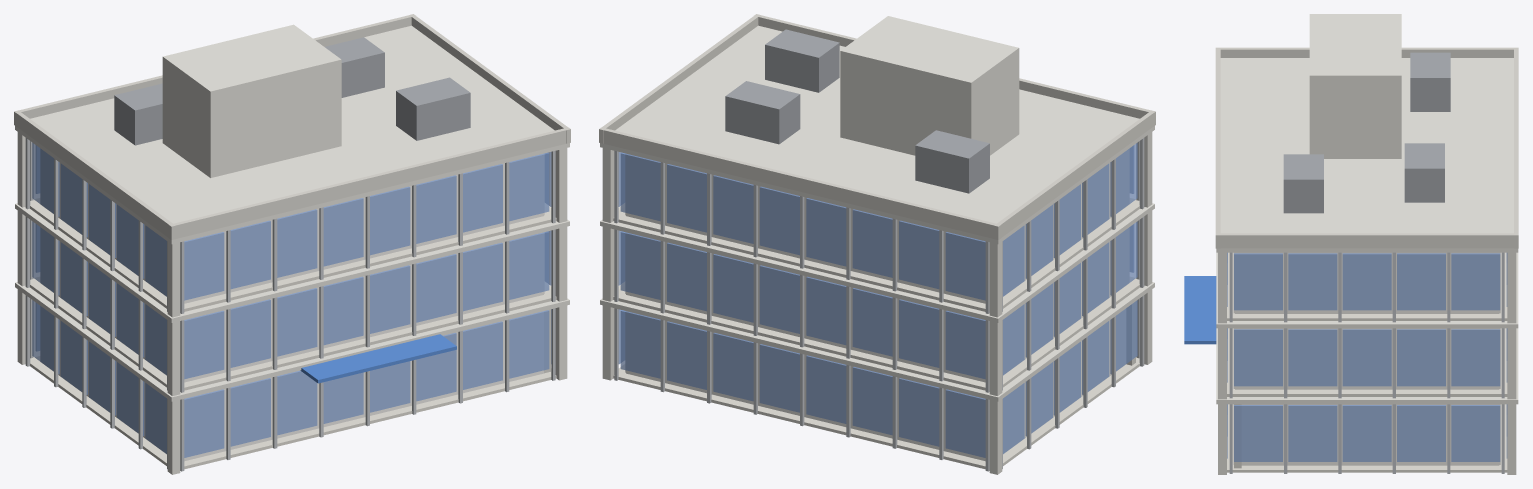
File: centro-retail-hub-3f-8r.glb
The picture shows the model from 3 angles, left to right: view 1: azimuth 30°, elevation 25°; view 2: azimuth 150°, elevation 25°; view 3: azimuth 270°, elevation 25°; orthographic projection. The views are drawn at different scales.
Visible parts, largest first — view 1: shell_roof, shell_penthouse, wall_room_1_3_1, wall_room_2_3_1, wall_room_2_7_1, wall_room_1_7_1, shell_parapet_f, wall_room_0_7_1, wall_room_0_3_1, shell_slab_1, shell_slab_0, floorplate_1 (+79 smaller); view 2: shell_roof, shell_penthouse, wall_room_2_0_0, wall_room_0_0_0, wall_room_1_0_0, wall_room_0_4_0, wall_room_2_4_0, wall_room_1_4_0, shell_parapet_b, shell_slab_1, shell_slab_0, floorplate_1 (+73 smaller); view 3: shell_roof, shell_penthouse, wall_room_0_6_3, wall_room_1_6_3, wall_room_2_6_3, wall_room_1_4_3, wall_room_0_4_3, wall_room_2_4_3, shell_parapet_r, shell_glassX_1_0_r, shell_glassX_1_2_r, shell_glassX_1_3_r (+37 smaller).
Boxes of the visible parts, left/top/right/bottom form: shell_roof: left=30, top=25, right=554, bottom=223; shell_penthouse: left=162, top=24, right=341, bottom=177; wall_room_1_3_1: left=244, top=277, right=361, bottom=367; wall_room_2_3_1: left=244, top=198, right=361, bottom=288; wall_room_2_7_1: left=427, top=154, right=543, bottom=244; wall_room_1_7_1: left=427, top=232, right=543, bottom=323; shell_parapet_f: left=168, top=128, right=570, bottom=239; wall_room_0_7_1: left=427, top=311, right=543, bottom=401; wall_room_0_3_1: left=244, top=371, right=361, bottom=446; shell_slab_1: left=15, top=198, right=569, bottom=322; shell_slab_0: left=15, top=277, right=569, bottom=401; floorplate_1: left=30, top=277, right=556, bottom=390; shell_roof: left=615, top=25, right=1139, bottom=223; shell_penthouse: left=840, top=16, right=1019, bottom=155; wall_room_2_0_0: left=808, top=198, right=985, bottom=303; wall_room_0_0_0: left=808, top=355, right=985, bottom=461; wall_room_1_0_0: left=808, top=277, right=985, bottom=382; wall_room_0_4_0: left=626, top=311, right=807, bottom=417; wall_room_2_4_0: left=626, top=154, right=807, bottom=260; wall_room_1_4_0: left=626, top=232, right=807, bottom=338; shell_parapet_b: left=599, top=128, right=1001, bottom=239; shell_slab_1: left=600, top=198, right=1154, bottom=322; shell_slab_0: left=600, top=277, right=1154, bottom=401; floorplate_1: left=613, top=277, right=1139, bottom=390; shell_roof: left=1220, top=58, right=1513, bottom=233; shell_penthouse: left=1309, top=14, right=1401, bottom=158; wall_room_0_6_3: left=1280, top=404, right=1392, bottom=465; wall_room_1_6_3: left=1280, top=328, right=1392, bottom=389; wall_room_2_6_3: left=1280, top=252, right=1392, bottom=313; wall_room_1_4_3: left=1396, top=328, right=1499, bottom=389; wall_room_0_4_3: left=1396, top=404, right=1499, bottom=465; wall_room_2_4_3: left=1396, top=252, right=1499, bottom=313; shell_parapet_r: left=1216, top=233, right=1517, bottom=248; shell_glassX_1_0_r: left=1451, top=329, right=1500, bottom=386; shell_glassX_1_2_r: left=1342, top=329, right=1391, bottom=386; shell_glassX_1_3_r: left=1288, top=329, right=1337, bottom=386.
Size of what is drawn, in the model's own units: 17 by 13.32 by 12.8.
